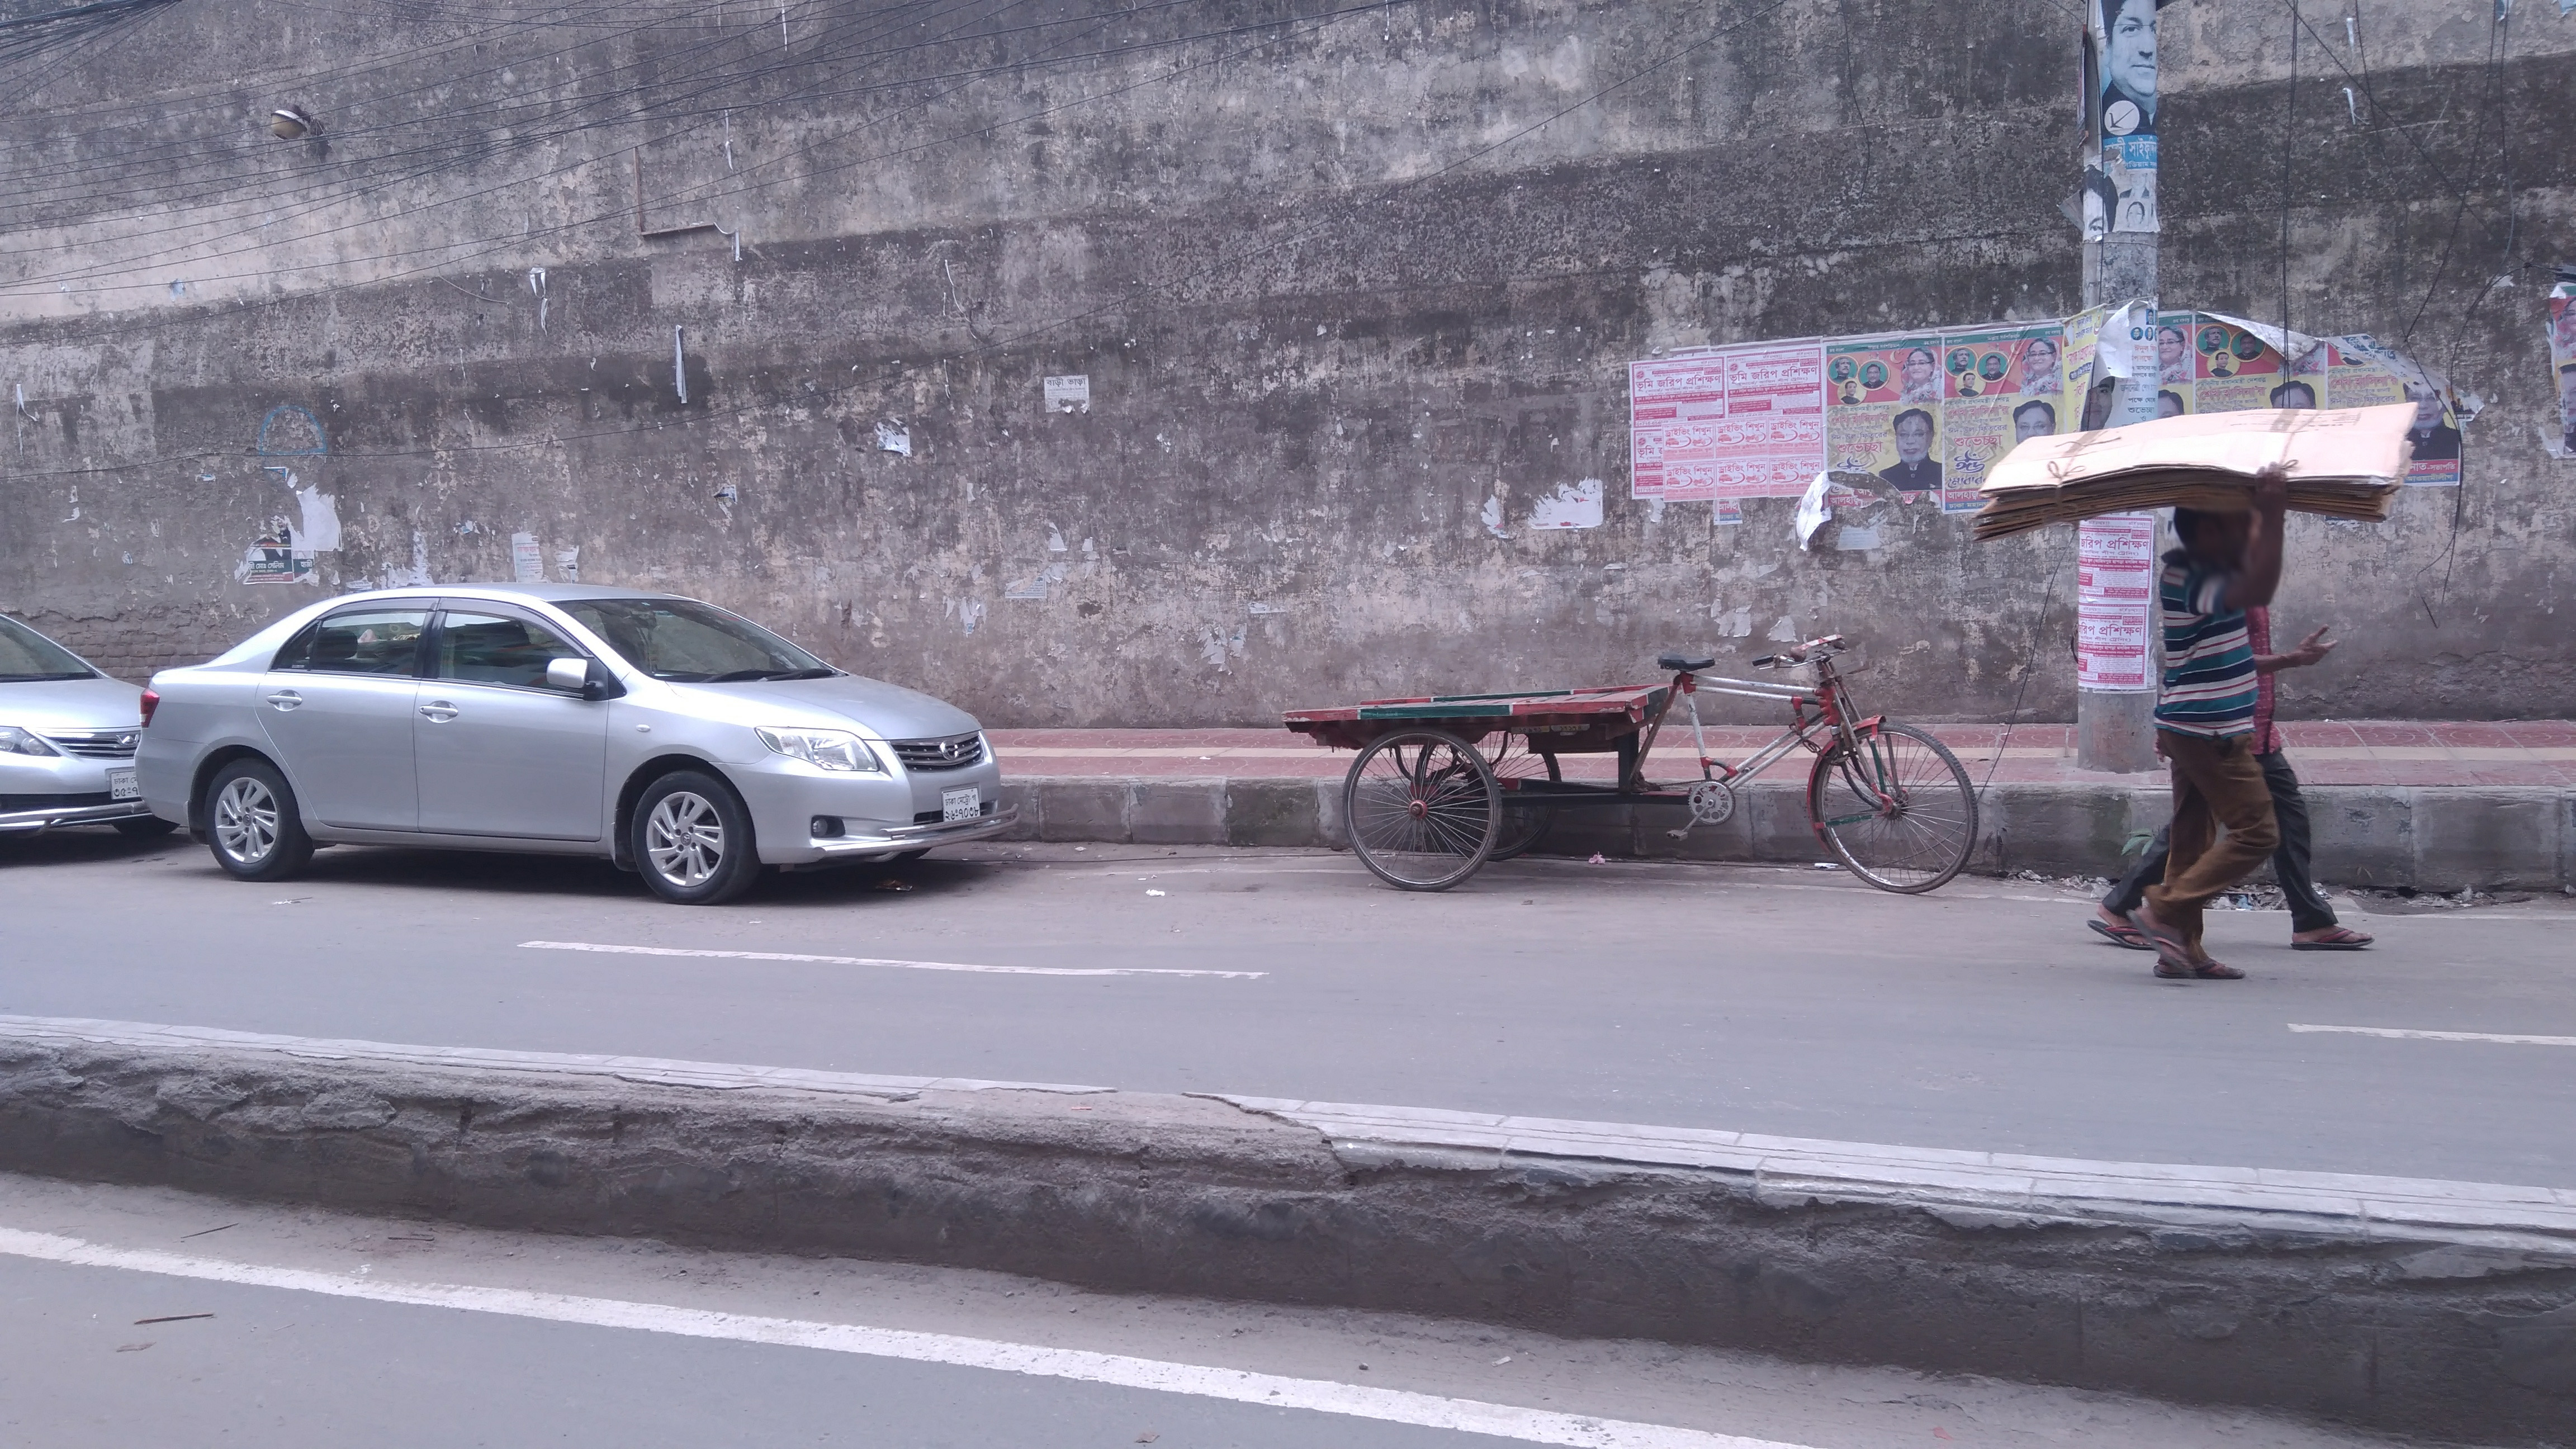car: (129, 573, 1016, 902), (0, 607, 163, 837)
van: (1293, 625, 2010, 899)
